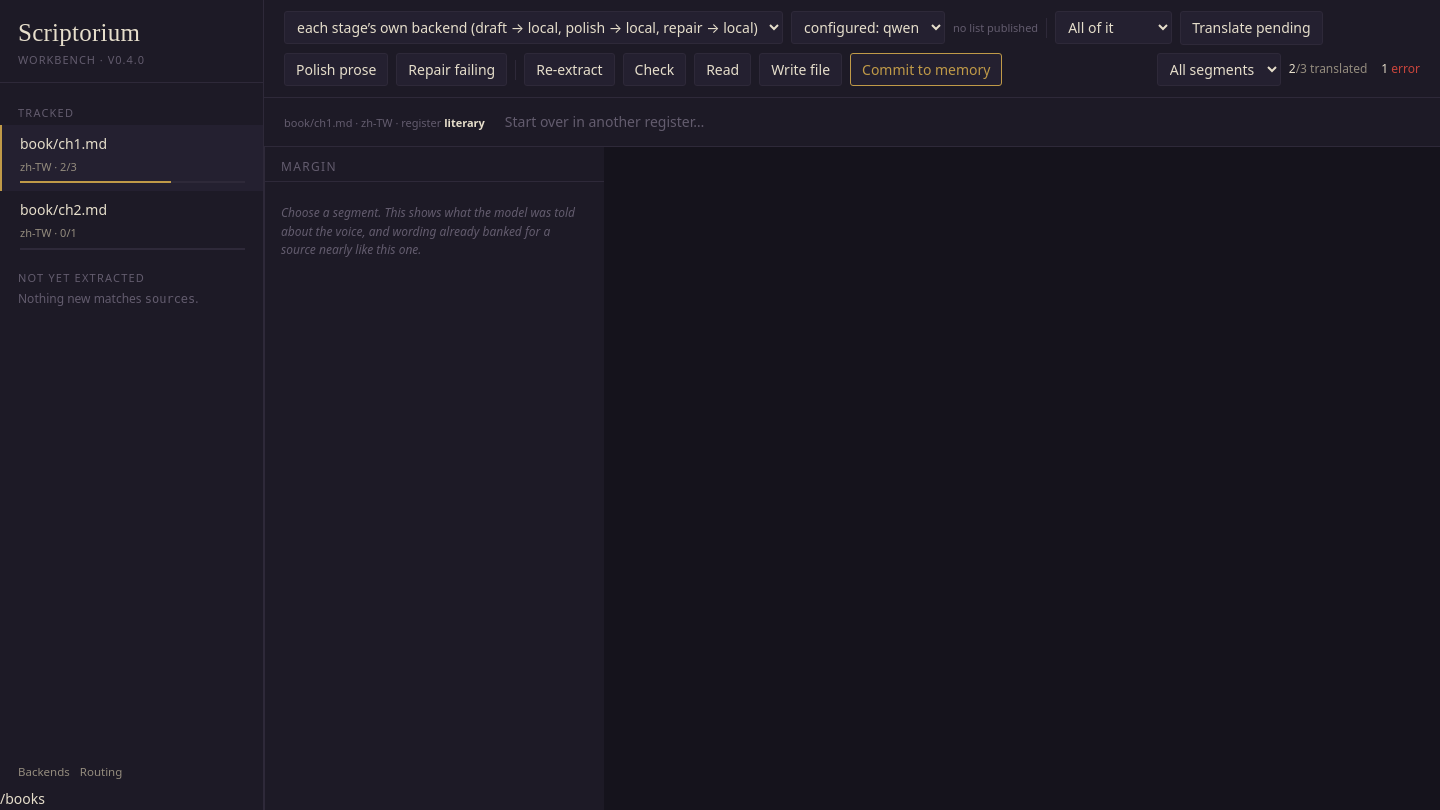
the toolbar's re-extract and start over › does not decide its confirmation from a document the reviewer moved to
Check: the text "/3 translated" is shown, box 1289,60 -> 1367,79
Click the button "Re-extract": x=569, y=70 524,53 -> 614,86
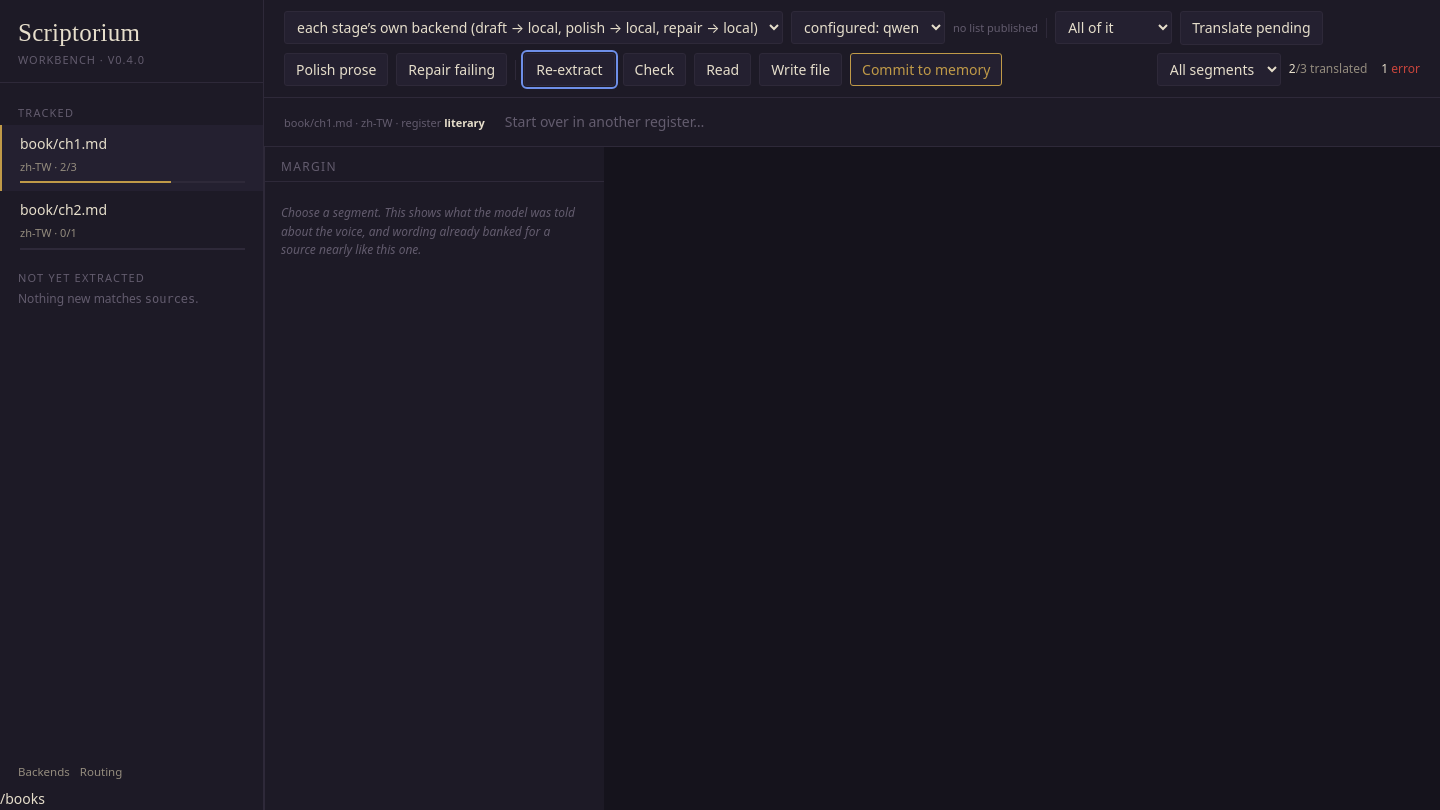
Click the button "book/ch2.md zh-TW · 0/1": x=64, y=210 0,191 -> 263,258
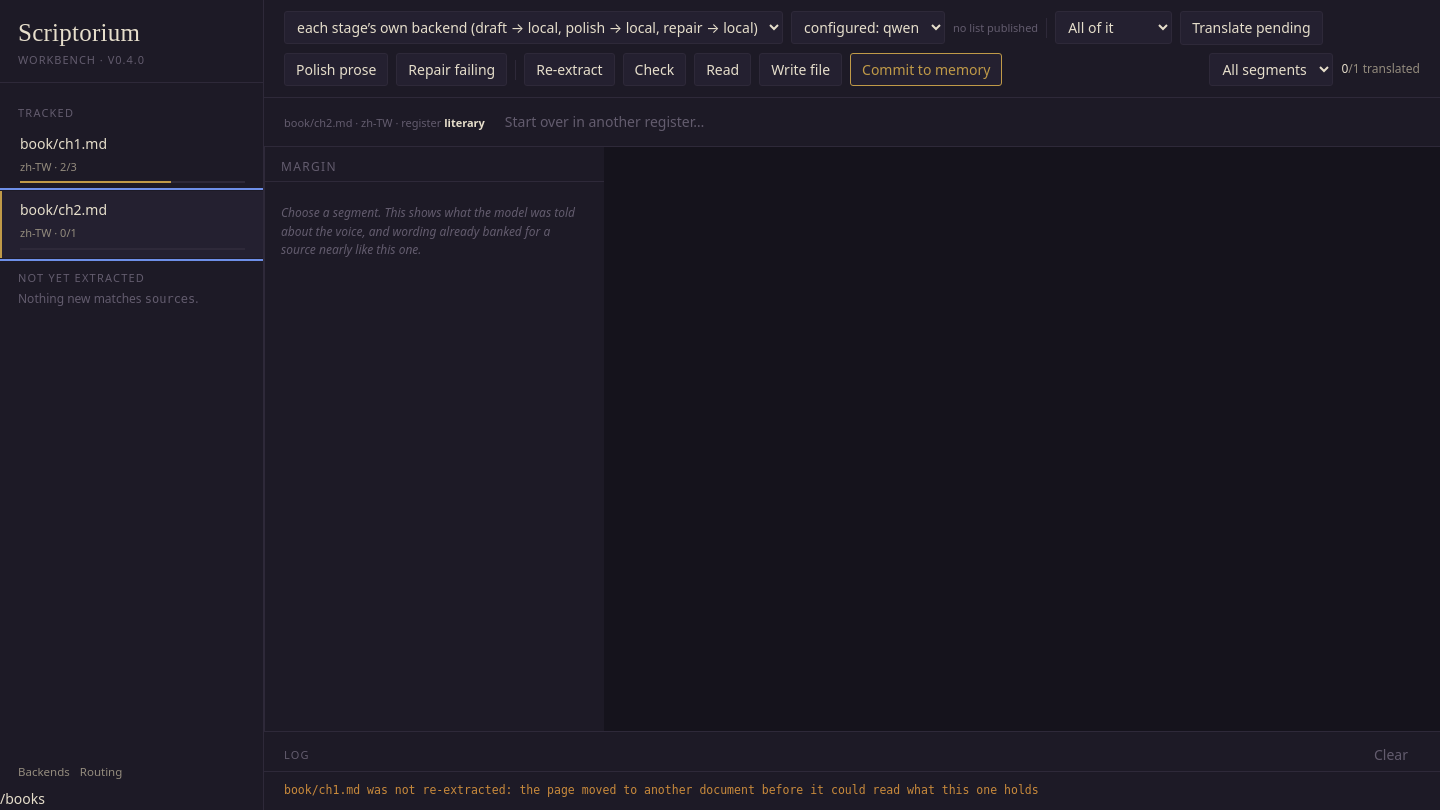
Check: the text "/1 translated" is shown, box 1341,60 -> 1420,79
